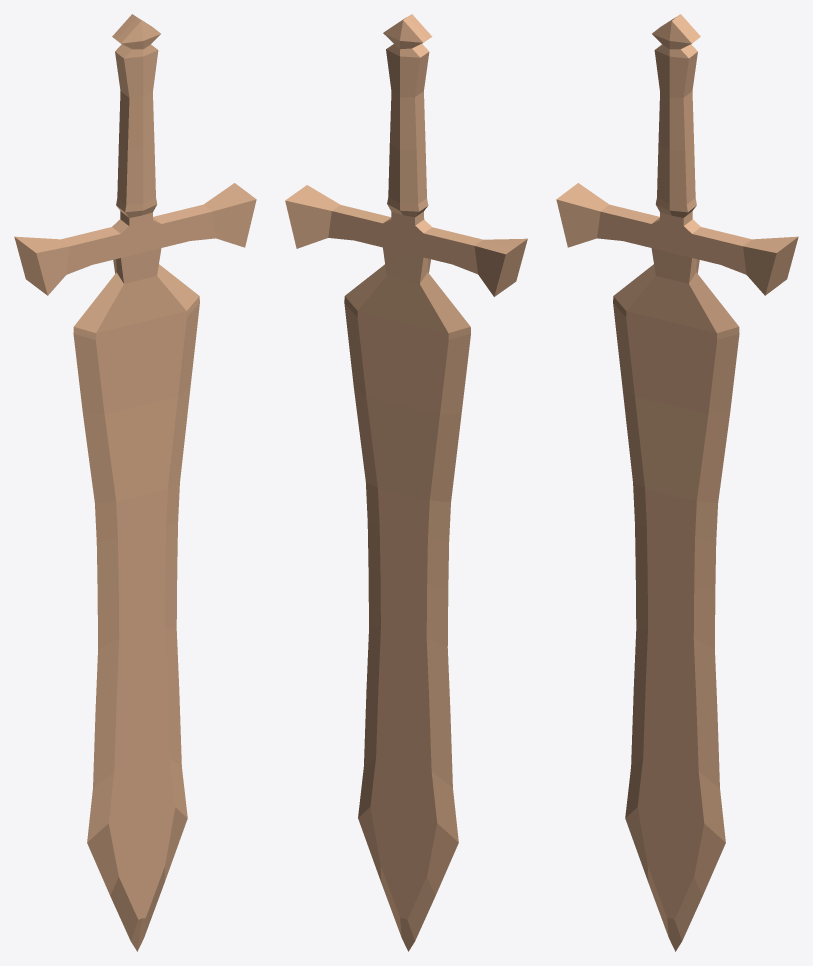
File: adam sverd .fbx
The picture shows the model from 3 angles, left to right: view 1: azimuth 30°, elevation 25°; view 2: azimuth 150°, elevation 25°; view 3: azimuth 330°, elevation 25°; orthographic projection.
Parts seen in each view (by area): view 1: adam svær1; view 2: adam svær1; view 3: adam svær1.
Boxes of the visible parts, x1,y1,x2,y2 form: adam svær1: [14, 14, 256, 951]; adam svær1: [285, 14, 527, 951]; adam svær1: [556, 14, 798, 951].
Size of the model in its own units: 92.05 by 373 by 15.95.
